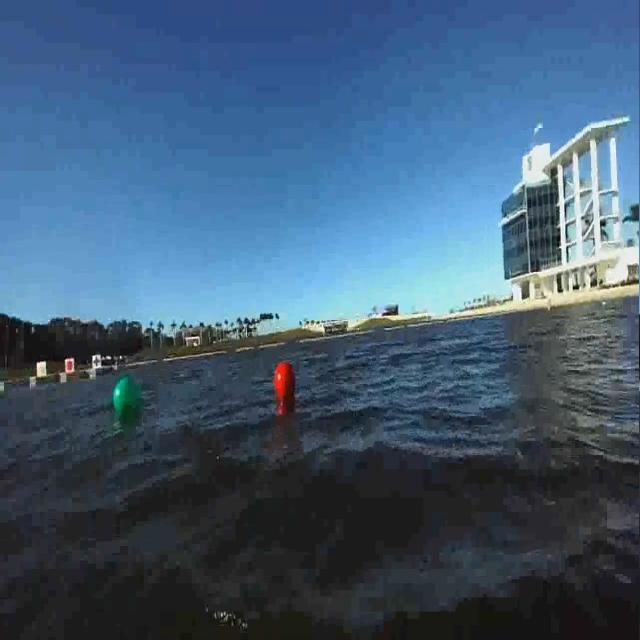green-buoy: (111, 377, 143, 423)
red-buoy: (275, 363, 295, 399)
